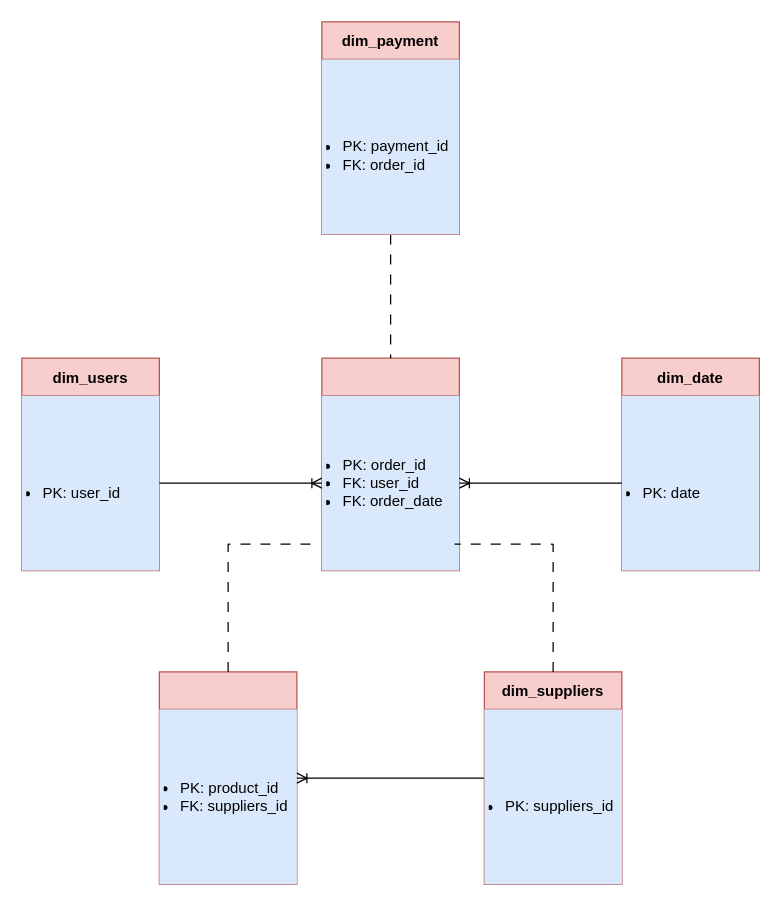
Image size: 781x906. Some labels were removed from this diagram. Each missing label, with the box of its shape:
dim_products: (158, 671, 297, 884)
fact_orders: (321, 357, 459, 571)
